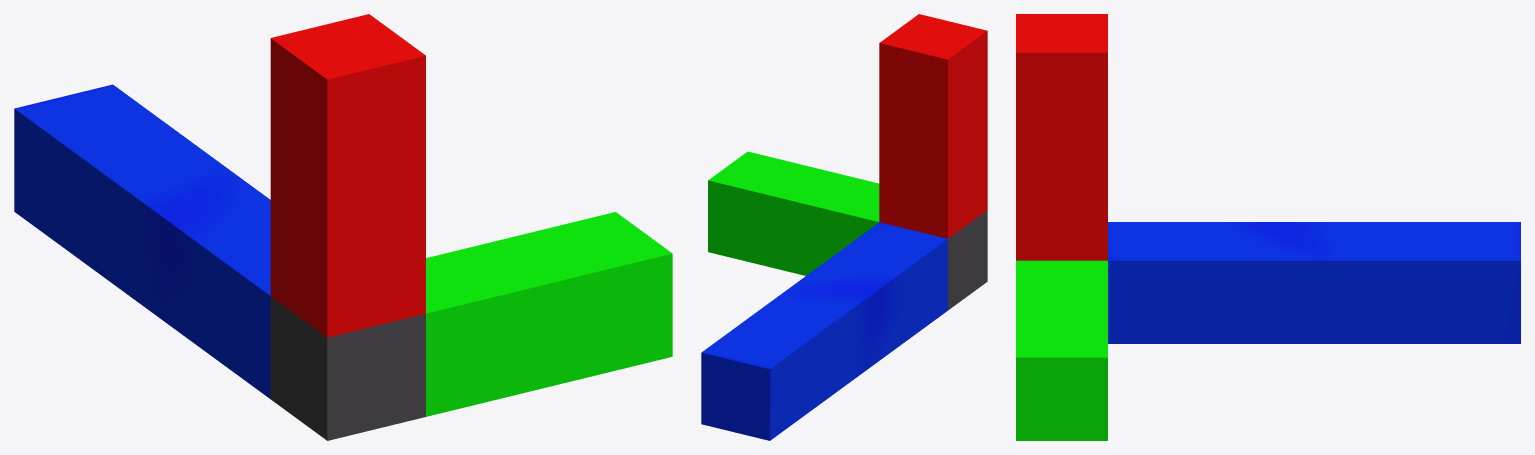
Rendered from mitre.dae.
3 renders of one model, left to right at view 1: azimuth 30°, elevation 25°; view 2: azimuth 150°, elevation 25°; view 3: azimuth 270°, elevation 25°, orthographic. The views are drawn at different scales.
Parts seen in each view (by area): view 1: Cube_001, Cube_002, Cube_003, Cube; view 2: Cube_001, Cube_002, Cube_003, Cube; view 3: Cube_001, Cube_002, Cube_003.
Part boxes in pixels (x1,y1,x2,y2): Cube_001: (14,84,270,398); Cube_002: (270,14,425,337); Cube_003: (426,212,672,416); Cube: (270,296,425,440); Cube_001: (701,222,947,440); Cube_002: (879,14,987,238); Cube_003: (708,151,879,275); Cube: (948,210,987,310); Cube_001: (1108,222,1520,343); Cube_002: (1016,14,1107,260); Cube_003: (1016,260,1107,440).
Size of the model in its own units: 7 by 11 by 7.
Materials: 4 (4 with a texture image).
